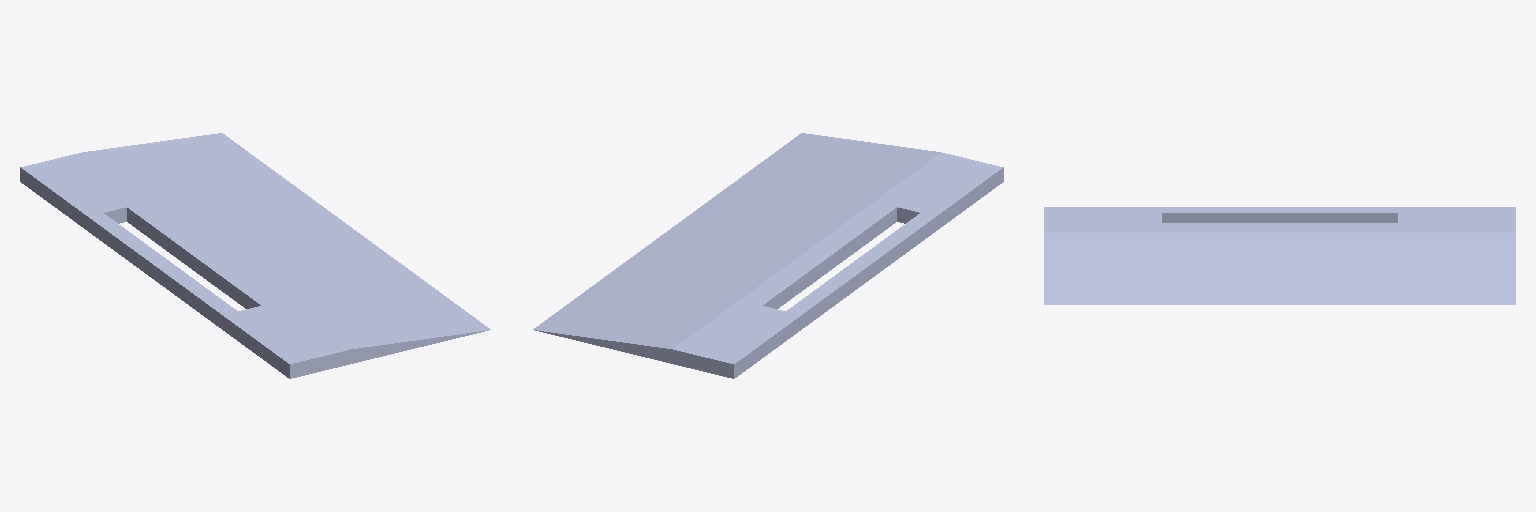
The robot description file, URDF, robot "dump":
<?xml version="1.0" encoding="utf-8"?>
<!-- This URDF was automatically created by SolidWorks to URDF Exporter! Originally created by [author] ([email redacted]) 
     Commit Version: 1.5.1-0-g916b5db  Build Version: 1.5.7152.31018
     For more information, please see http://wiki.ros.org/sw_urdf_exporter -->
<robot
  name="dump">
  <link
    name="dump">
    <inertial>
      <origin
        xyz="-2.6878 -5 -0.1791"
        rpy="0 0 0" />
      <mass
        value="7731" />
      <inertia
        ixx="69164"
        ixy="5.96293558529387E-12"
        ixz="267.26"
        iyy="7958.8"
        iyz="4.6754392161299E-12"
        izz="77020" />
    </inertial>
    <visual>
      <origin
        xyz="0 0 0"
        rpy="1.5707963267949 0 0" />
      <geometry>
        <mesh
          filename="package://dump/meshes/dump.STL" />
      </geometry>
      <material
        name="">
        <color
          rgba="0.79216 0.81961 0.93333 1" />
        <texture
          filename="package://dump/textures/" />
      </material>
    </visual>
    <collision>
      <origin
        xyz="0 0 0"
        rpy="1.5707963267949 0 0" />
      <geometry>
        <mesh
          filename="package://dump/meshes/dump.STL" />
      </geometry>
    </collision>
  </link>
</robot>

--- Facts derived from the render (not from the file) ---
3 views of the same robot in one strip: view 1: azimuth 30°, elevation 25°; view 2: azimuth 150°, elevation 25°; view 3: azimuth 270°, elevation 25° (orthographic).
Model dump with 1 links and 0 joints (none), rooted at dump, posed all joints at 0.
Links seen in each view (by area): view 1: dump; view 2: dump; view 3: dump.
Boxes of the visible links, left/top/right/bottom form: dump: left=20, top=133, right=490, bottom=378; dump: left=533, top=133, right=1003, bottom=378; dump: left=1044, top=207, right=1515, bottom=304.
Size in the robot's own frame: 4.33 by 10 by 0.3 metres.
Meshes: 1 distinct files referenced, 1 mesh visuals loaded (1 binary STL).